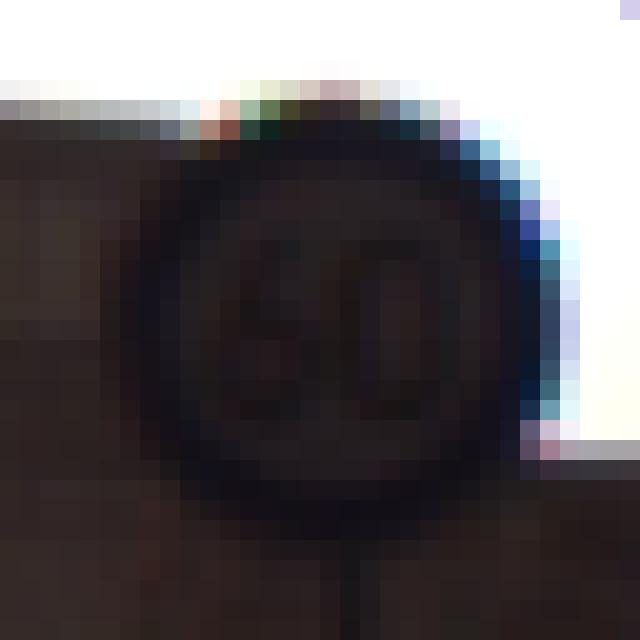SPEED-LIMIT-60: (90, 72, 570, 577)
